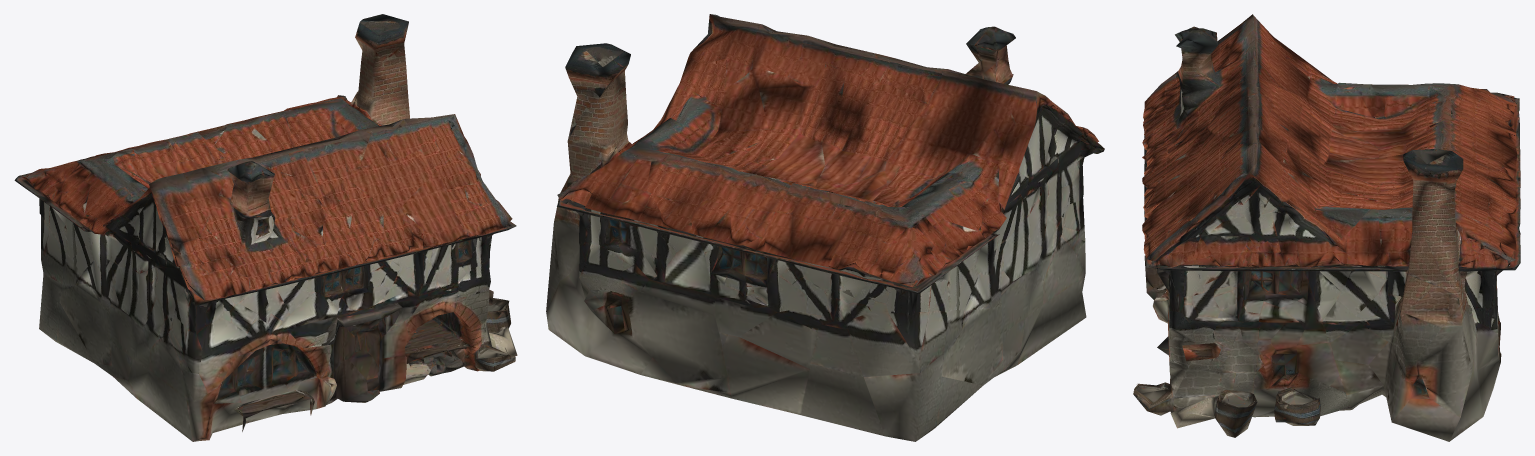
The model's file is baeckerei.glb.
3 views of the same model, side by side, from view 1: azimuth 30°, elevation 25°; view 2: azimuth 150°, elevation 25°; view 3: azimuth 270°, elevation 25° (orthographic). The views are drawn at different scales.
Bounding box in the file's own units: 1.89 × 1.25 × 1.63.
1 material, 1 textured.
